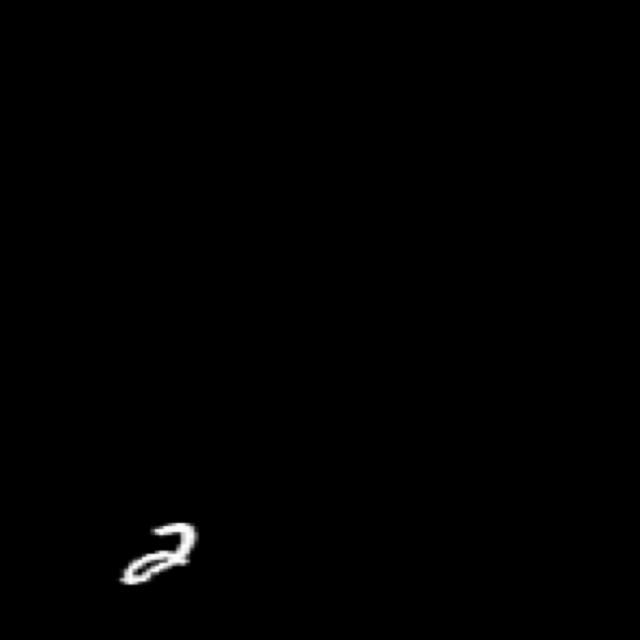two -2-: (106, 509, 220, 603)
